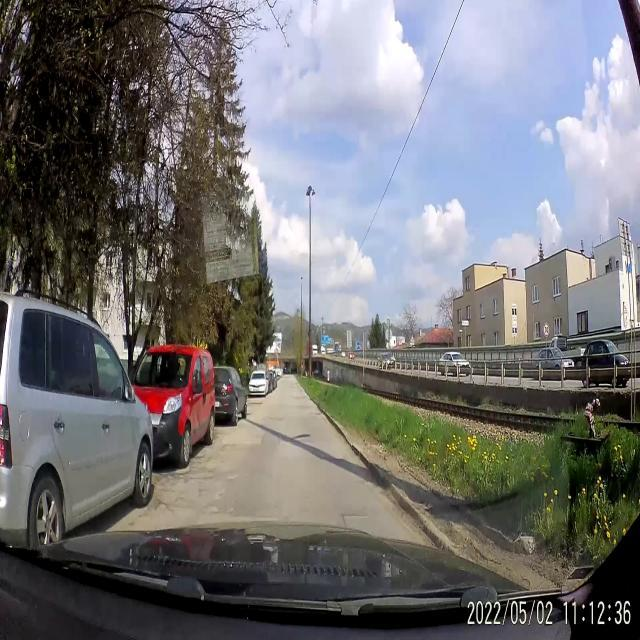Pothole: (292, 429, 313, 451)
